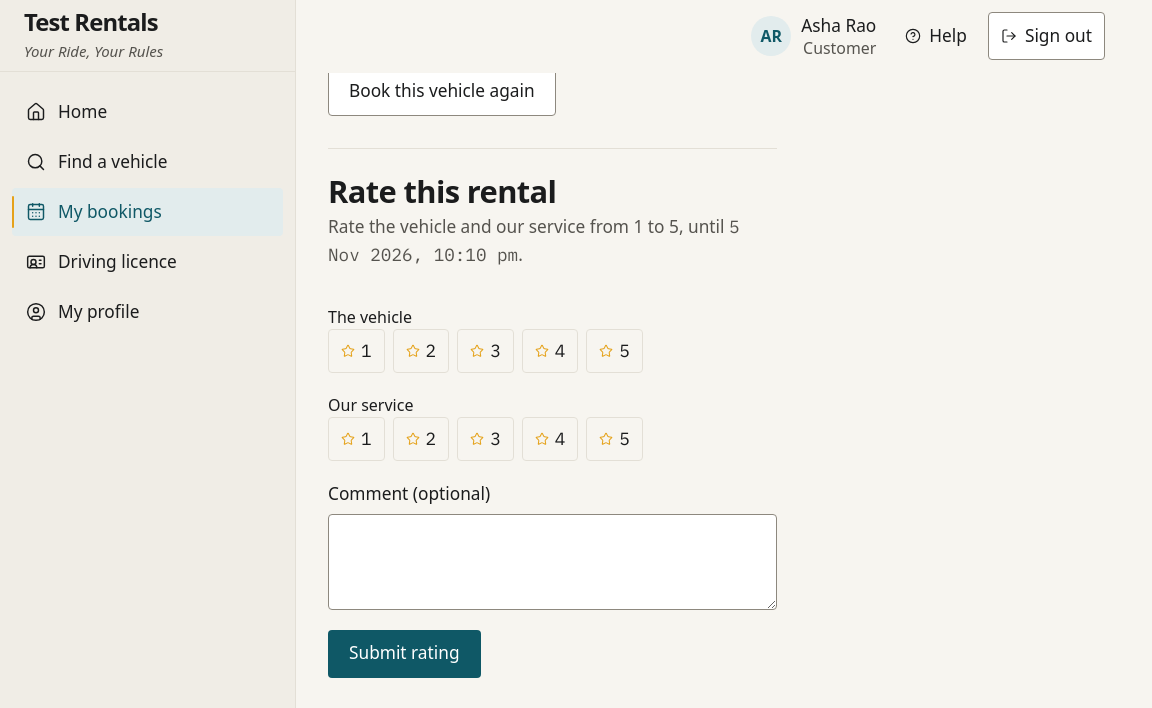
Test: Rate Vehicle (UC 6) › invites a rating and sends both scores and the comment
This screenshot has width=1152, height=708.
(page scrolled)
Expected: the heading "Rate this rental" is shown, [328,170,556,212]
Click the 1st radio button labelled "4" at (550, 351), box [522,329,578,373]
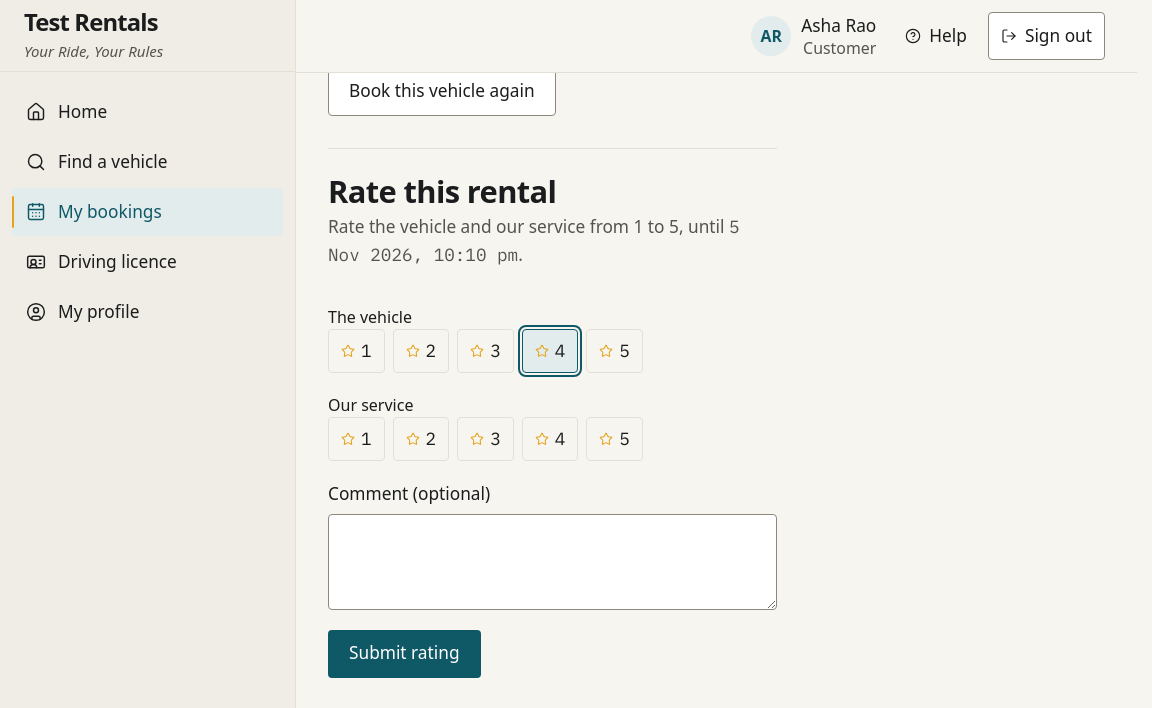
Click the 2nd radio button labelled "5" at (615, 439), box [586,417,643,461]
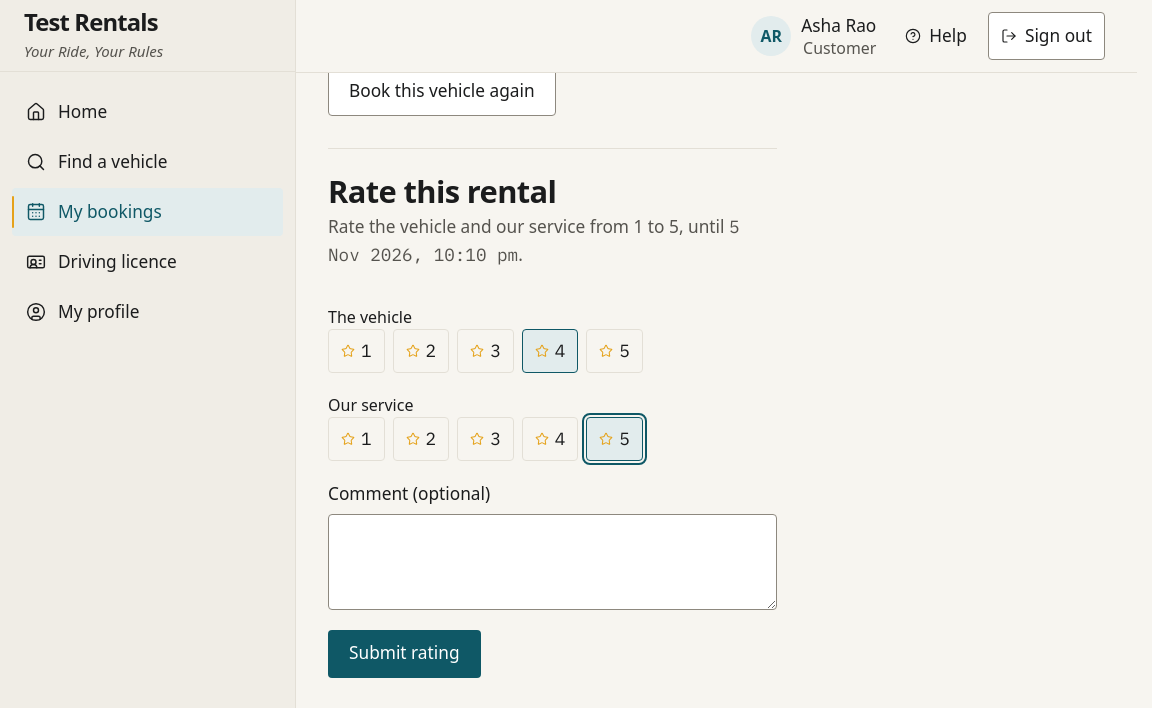
Type "Clean car." into the text box labelled "Comment (optional)" at (552, 562), box [328,514,777,610]
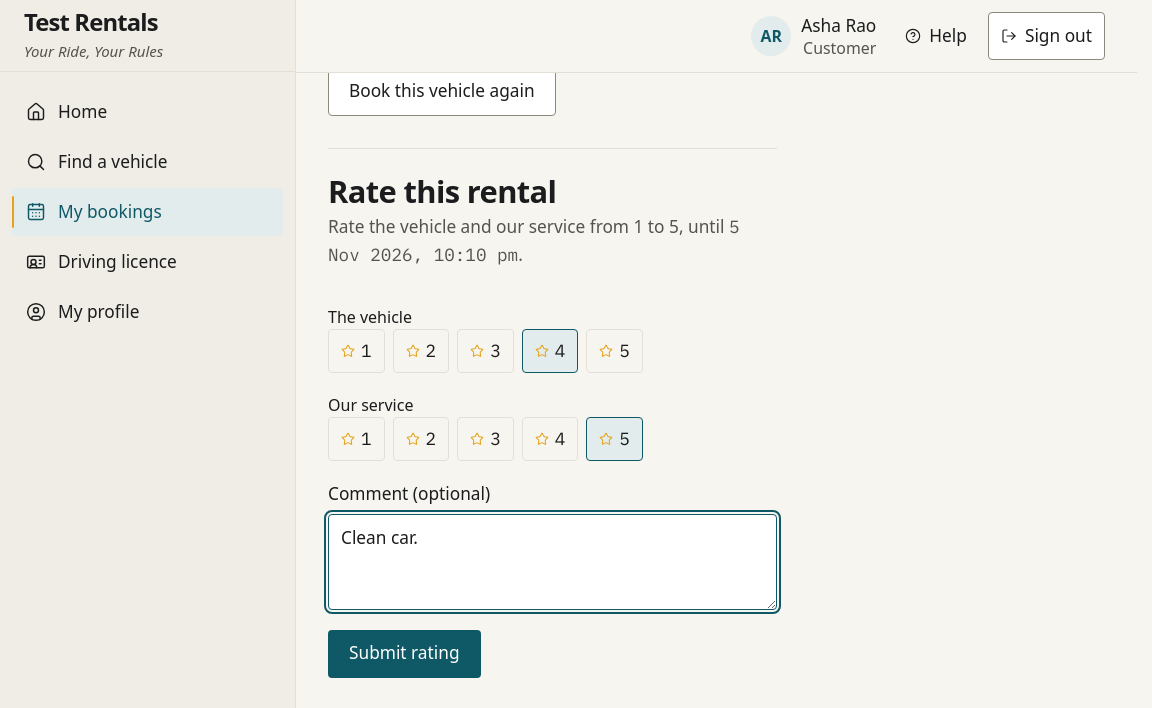
Click the button "Submit rating" at (404, 654), box [328,630,480,678]
(page scrolled)
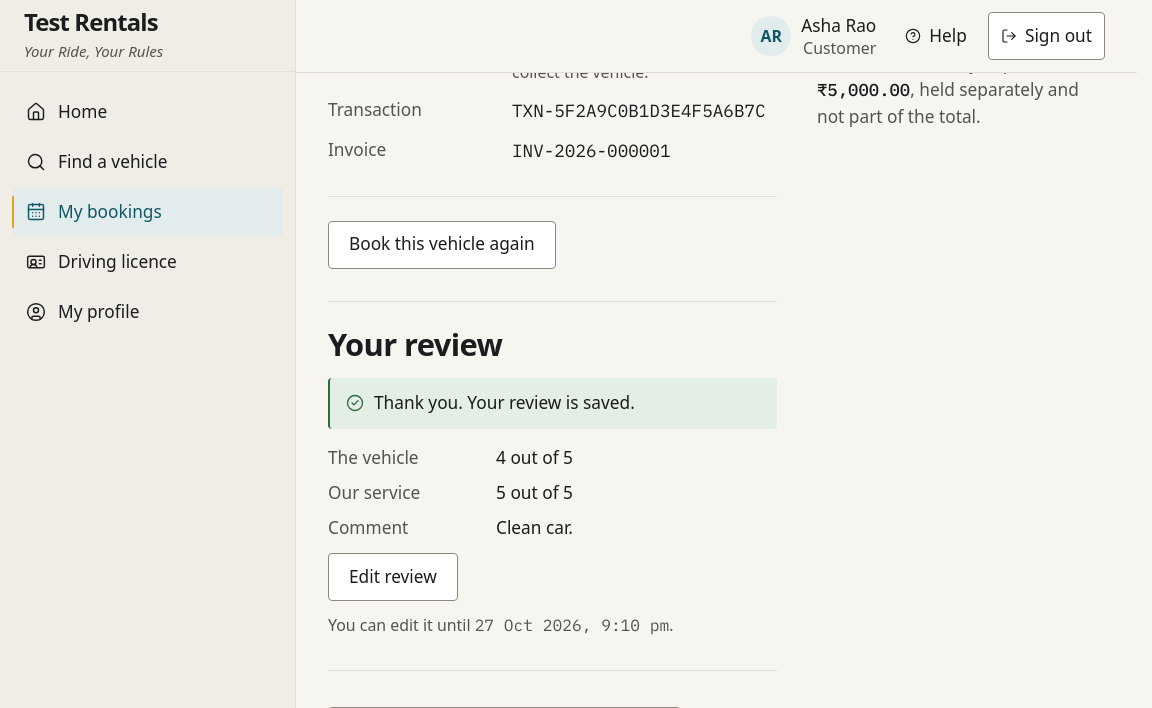
Expected: the text "Thank you. Your review is saved." is shown, [374,390,635,417]
Expected: the heading "Your review" is shown, [328,323,502,365]
